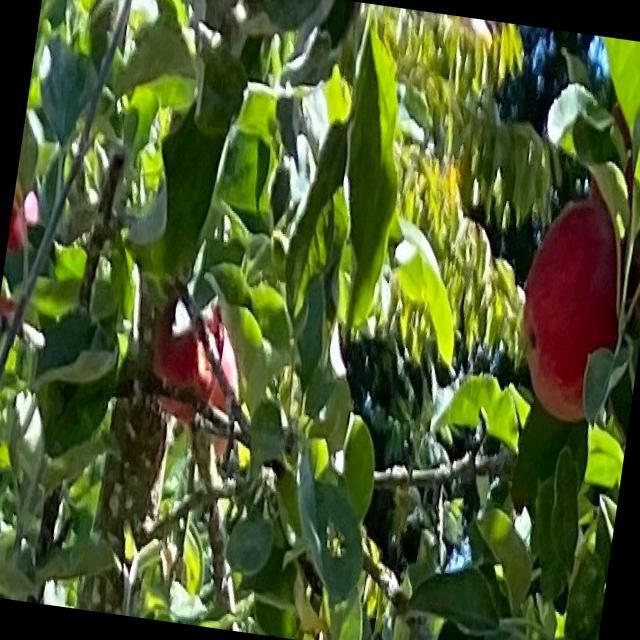100-_ripeness: (508, 191, 638, 427), (142, 294, 230, 426)
